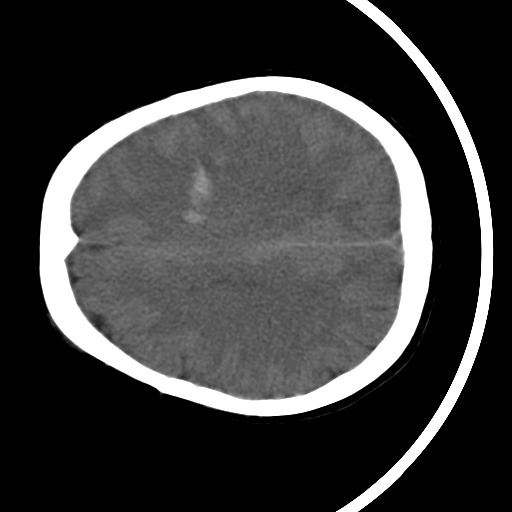a: (165, 135, 239, 237)
